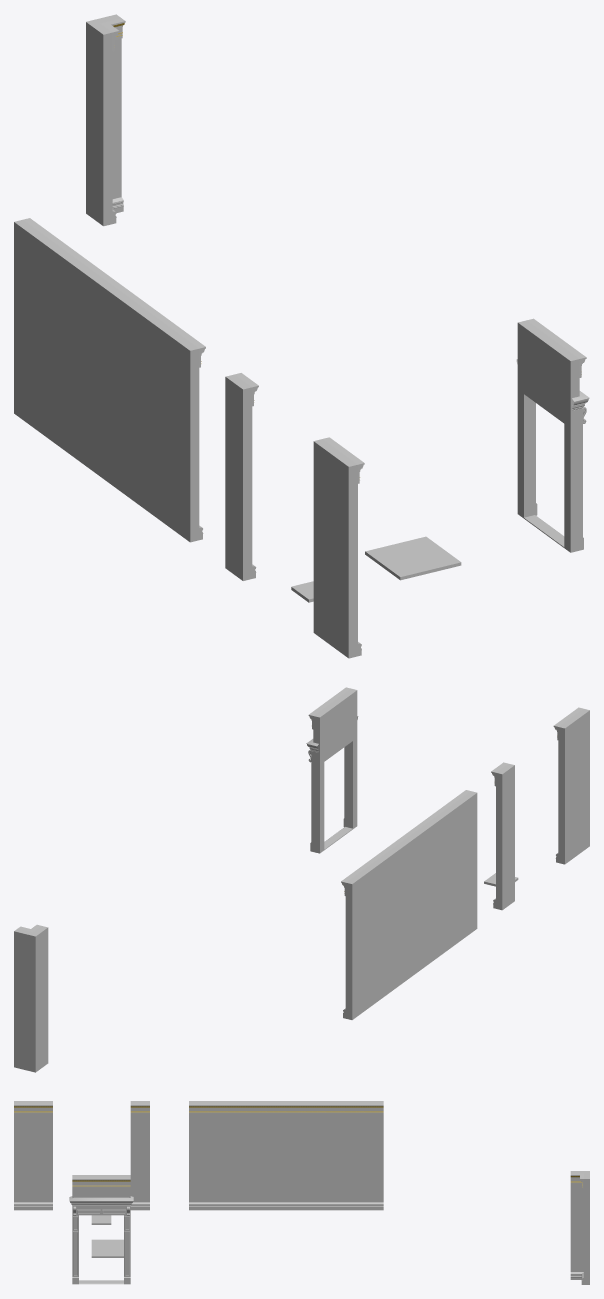
File: Interior_Modules.fbx
The picture shows the model from 3 angles, top to bottom: view 1: azimuth 30°, elevation 25°; view 2: azimuth 150°, elevation 25°; view 3: azimuth 270°, elevation 25°; orthographic projection. The views are drawn at different scales.
Parts seen in each view (by area): view 1: Wall_Tall_Tile_10m, Wall_Tall_Tile_Arch, Wall_Tall_Tile_2m, Wall_Turn_Inside, Wall_Tall_Tile_1m, Floor_Tile_2; view 2: Wall_Tall_Tile_10m, Wall_Tall_Tile_Arch, Wall_Turn_Inside, Wall_Tall_Tile_2m, Wall_Tall_Tile_1m; view 3: Wall_Tall_Tile_10m, Wall_Tall_Tile_2m, Wall_Tall_Tile_Arch, Wall_Turn_Inside, Wall_Tall_Tile_1m, Floor_Tile_2.
Boxes of the visible parts, x1,y1,x2,y2 form: Wall_Tall_Tile_10m: [14, 218, 205, 542]; Wall_Tall_Tile_Arch: [516, 318, 589, 552]; Wall_Tall_Tile_2m: [313, 437, 364, 658]; Wall_Turn_Inside: [86, 14, 125, 226]; Wall_Tall_Tile_1m: [225, 373, 258, 580]; Floor_Tile_2: [365, 536, 461, 580]; Wall_Tall_Tile_10m: [341, 790, 477, 1019]; Wall_Tall_Tile_Arch: [306, 687, 358, 853]; Wall_Turn_Inside: [14, 924, 48, 1072]; Wall_Tall_Tile_2m: [553, 707, 589, 864]; Wall_Tall_Tile_1m: [491, 762, 514, 910]; Wall_Tall_Tile_10m: [189, 1101, 383, 1210]; Wall_Tall_Tile_2m: [14, 1101, 52, 1210]; Wall_Tall_Tile_Arch: [69, 1175, 133, 1284]; Wall_Turn_Inside: [570, 1171, 589, 1284]; Wall_Tall_Tile_1m: [130, 1101, 149, 1210]; Floor_Tile_2: [91, 1239, 123, 1257].
Size of the model in its own units: 956 by 610 by 2961.
